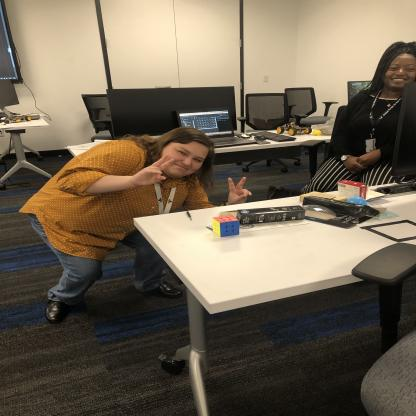SolvedCube: (211, 214, 244, 240)
